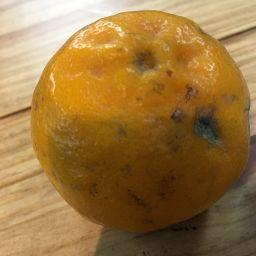Unripe: (29, 11, 250, 229)
